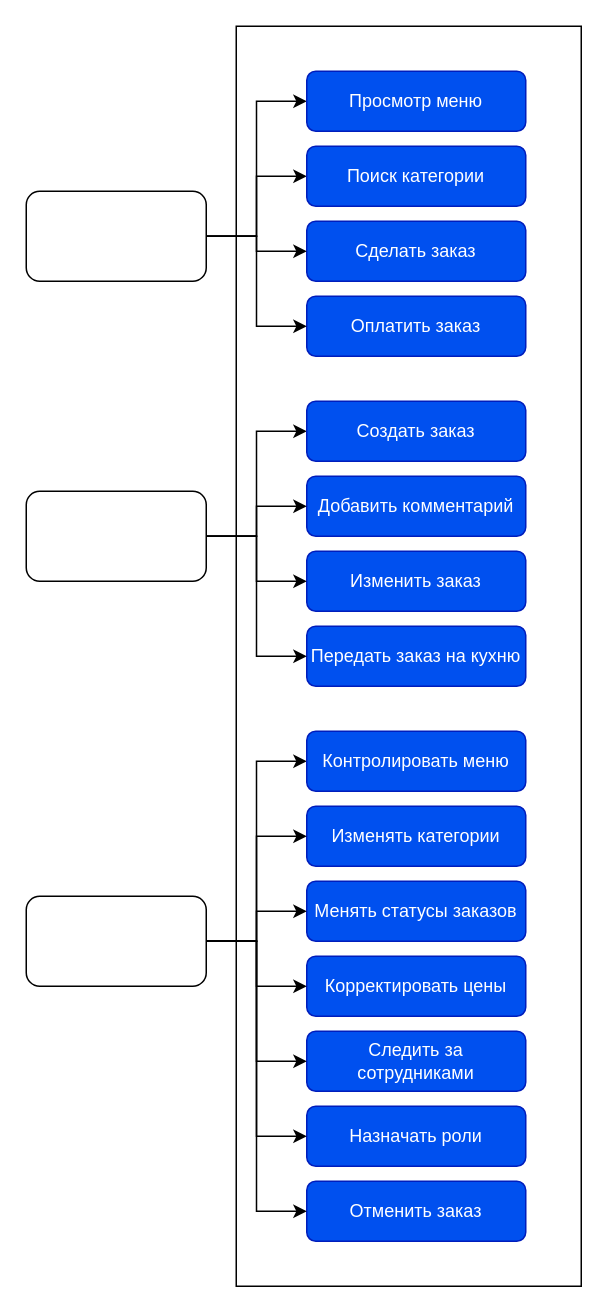
Some shapes in this 608 by 1313 pixel diagram are drawn without their labels. The shapes that lost their labels are listed below. From the top down, each one's centre as x and y in pixels, then its label:
(x=115, y=235): Покупатель
(x=115, y=535): Сотрудник
(x=115, y=940): Администратор
